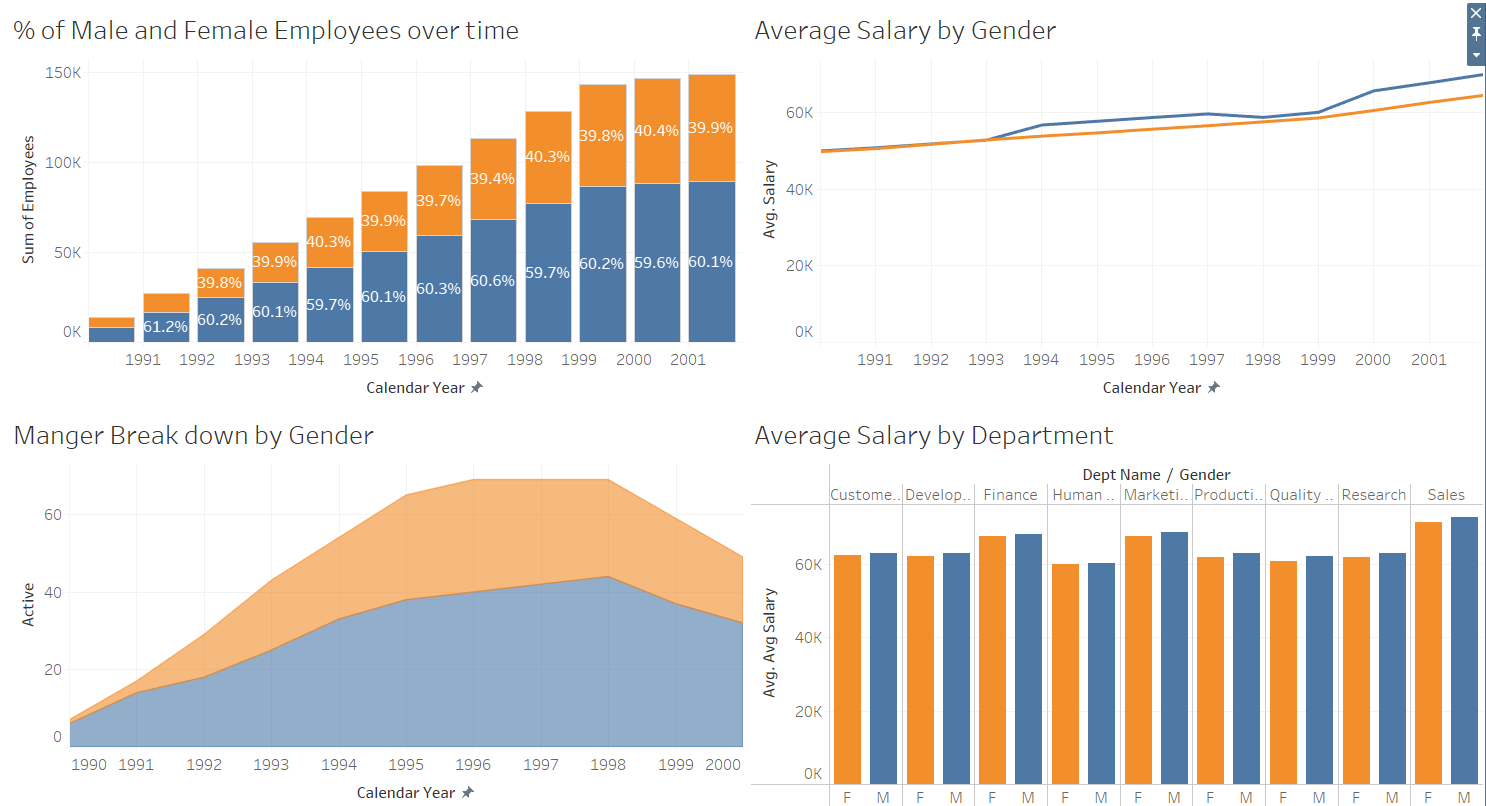

What the dashboard file says about the page in this screenshot:
{"tool":"tableau","page":{"name":"Dashboard 1","canvas":[1000,1000],"units":"permille","ordinal":0},"visuals":[{"type":"worksheet","title":"CHART 1","mark":"Bar","rows":["num_of_employees"],"cols":["calendar_year"],"box":[4.8,9.7,446.9,490.3]},{"type":"worksheet","title":"CHART 3","mark":"Automatic","rows":["salary"],"cols":["calendar_year"],"box":[451.7,9.7,446.9,490.3]},{"type":"filter","title":"CHART 3","param":"[federated.1jpzt761ths1uj1932y6u0fmromi].[none:dept_name:nk]","box":[898.6,9.7,96.6,322.4]},{"type":"worksheet","title":"CHART 2","mark":"Area","rows":["active"],"cols":["calendar_year"],"box":[4.8,500,446.9,490.3]},{"type":"worksheet","title":"CHART 4","mark":"Bar","rows":["avg_salary"],"cols":["dept_name","gender"],"box":[451.7,500,446.9,490.3]}]}

Visuals, with their boxes on the dashboard's canvas, which has no fixed pixel size, in thousandths of its width and height (x1, y1, x2, y2). These are canvas units, not pixel positions in the 1486x806 screenshot, which may show the page scaled, cropped or inside an application window:
"CHART 1" worksheet (Bar marks): [left=5, top=10, right=452, bottom=500]
"CHART 3" worksheet: [left=452, top=10, right=899, bottom=500]
"CHART 3" filter: [left=899, top=10, right=995, bottom=332]
"CHART 2" worksheet (Area marks): [left=5, top=500, right=452, bottom=990]
"CHART 4" worksheet (Bar marks): [left=452, top=500, right=899, bottom=990]
